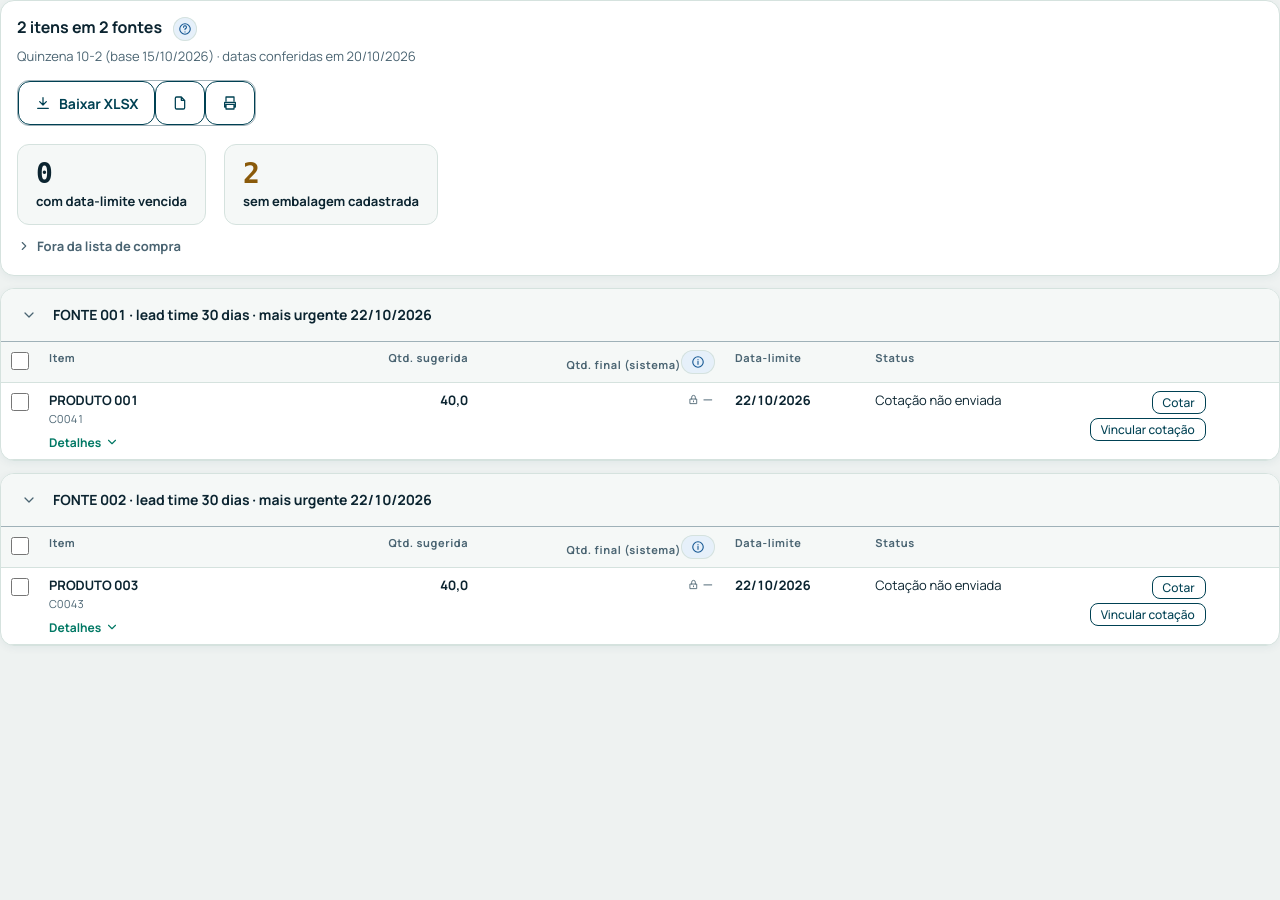
Test: pop-up Criar cotacao: codigo da cotacao por fonte › 409 do backend: a mensagem aparece em alerta, o pop-up segue aberto e o codigo digitado fica
Click the button "Cotar" in the row of "PRODUTO 001" at (1179, 402), box [1152,391,1206,414]
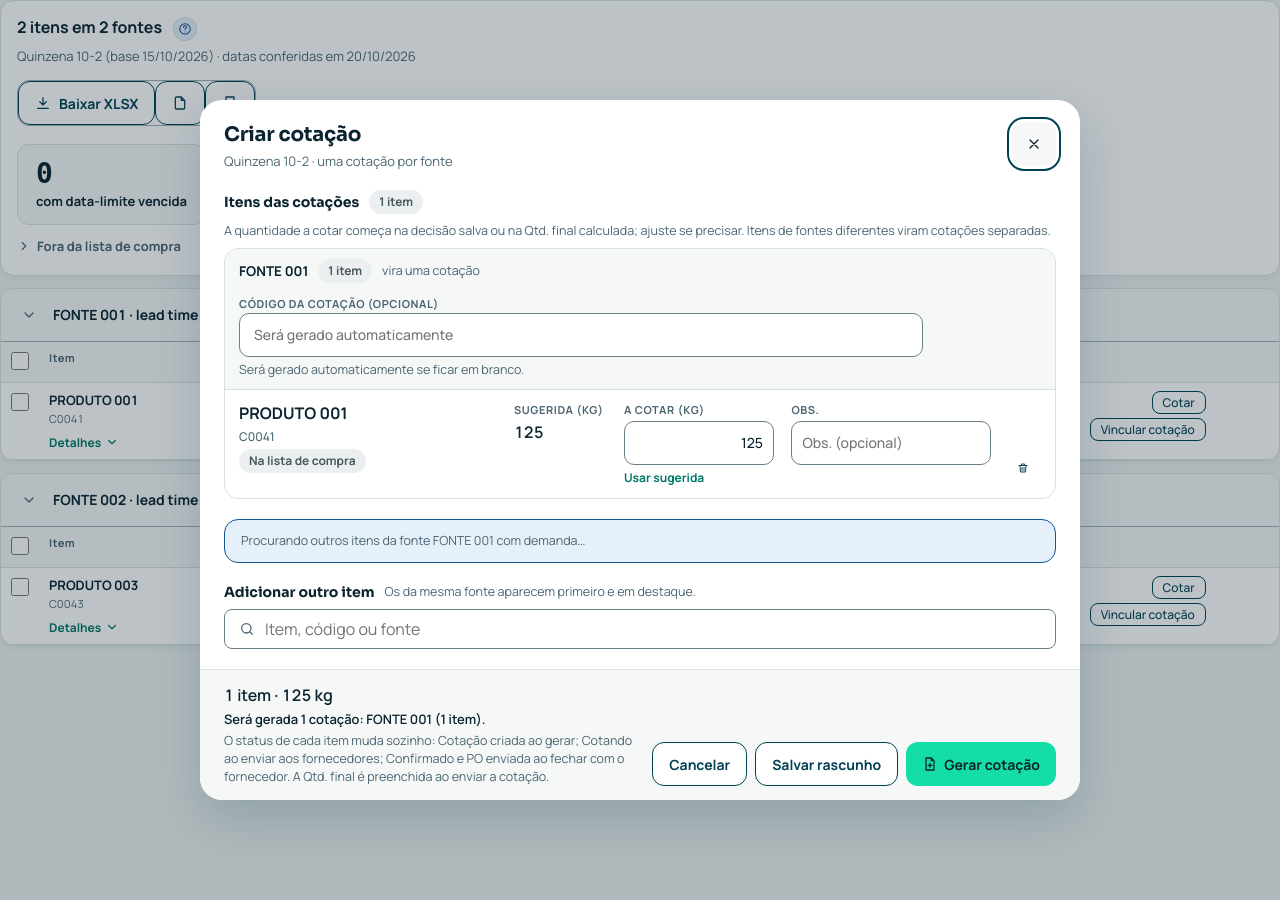
Expected: the button "Cancelar" is shown, [652,742,747,786]
Type "cmx-001" into the field labelled "Código da cotação (opcional)" at (581, 335), box [239,313,923,357]
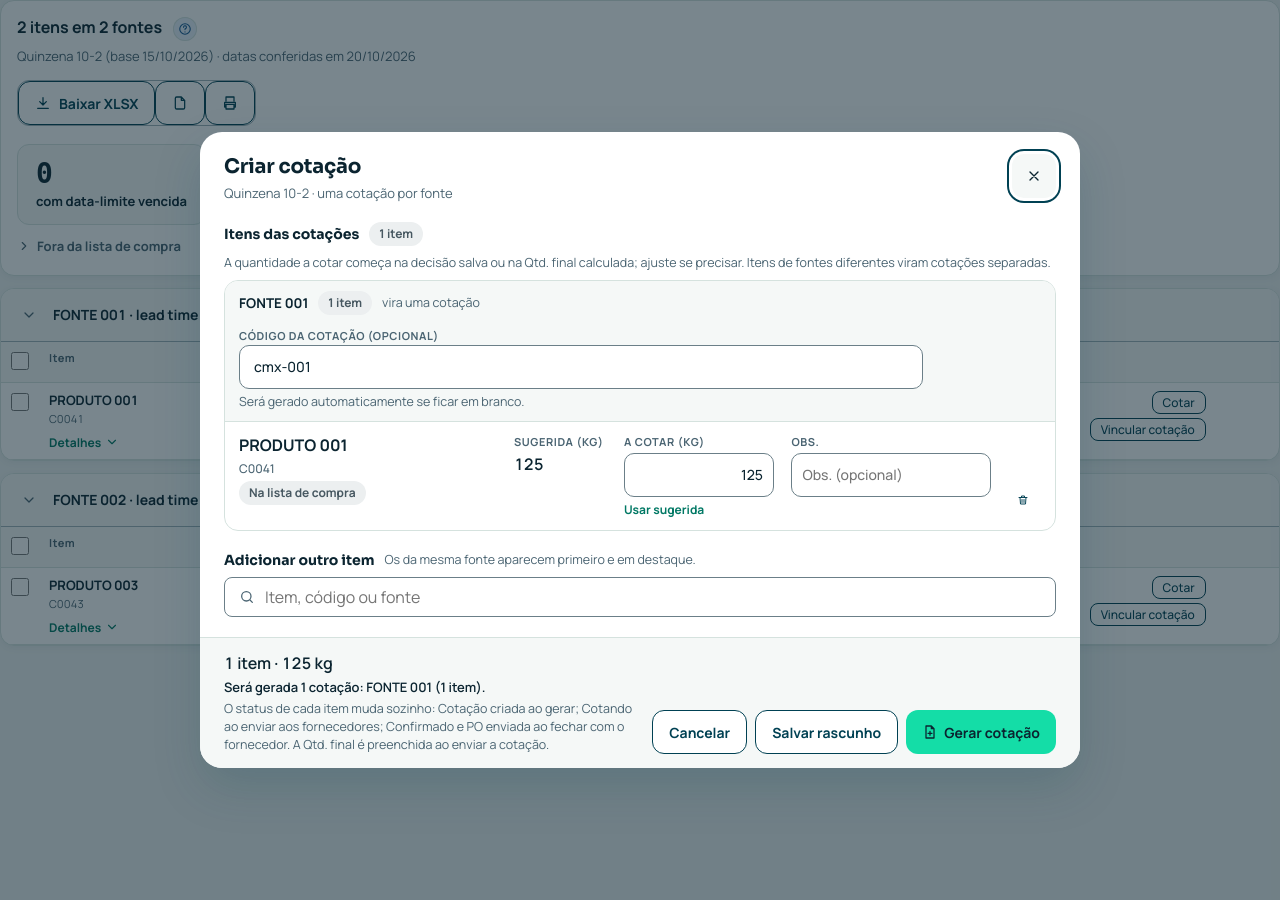
Click the button "Gerar cotação" at (981, 732), box [906,710,1056,754]
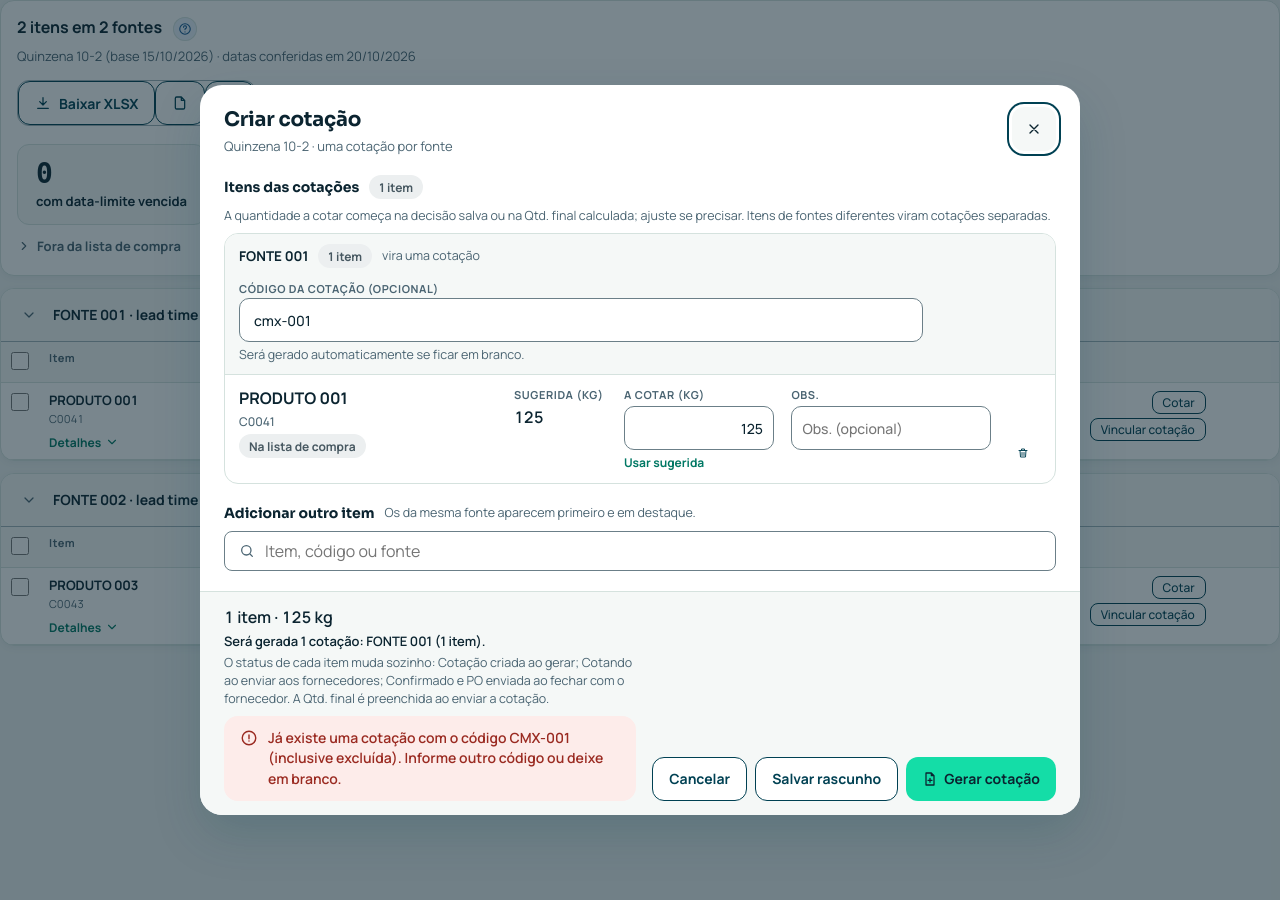
Expected: the heading "Criar cotação" is shown, [224,107,361,132]
Expected: the button "Gerar cotação" is enabled, [906,757,1056,801]
Expected: the message shows "Já existe uma cotação com o código CMX-001 (inclusive excluída). Informe outro código ou deixe em branco.", [268,728,603,788]
